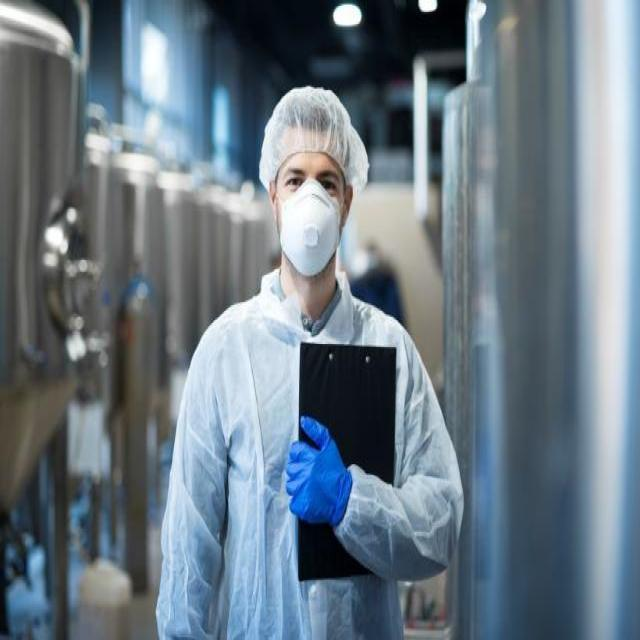gloved_hand: (282, 404, 349, 547)
